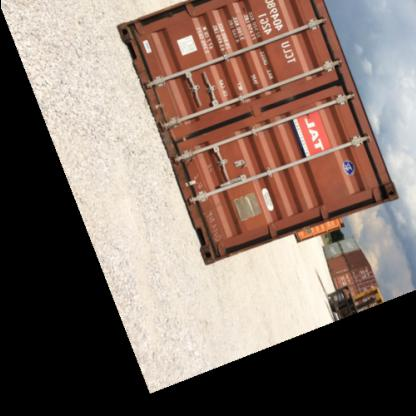Damage: (167, 121, 198, 153)
